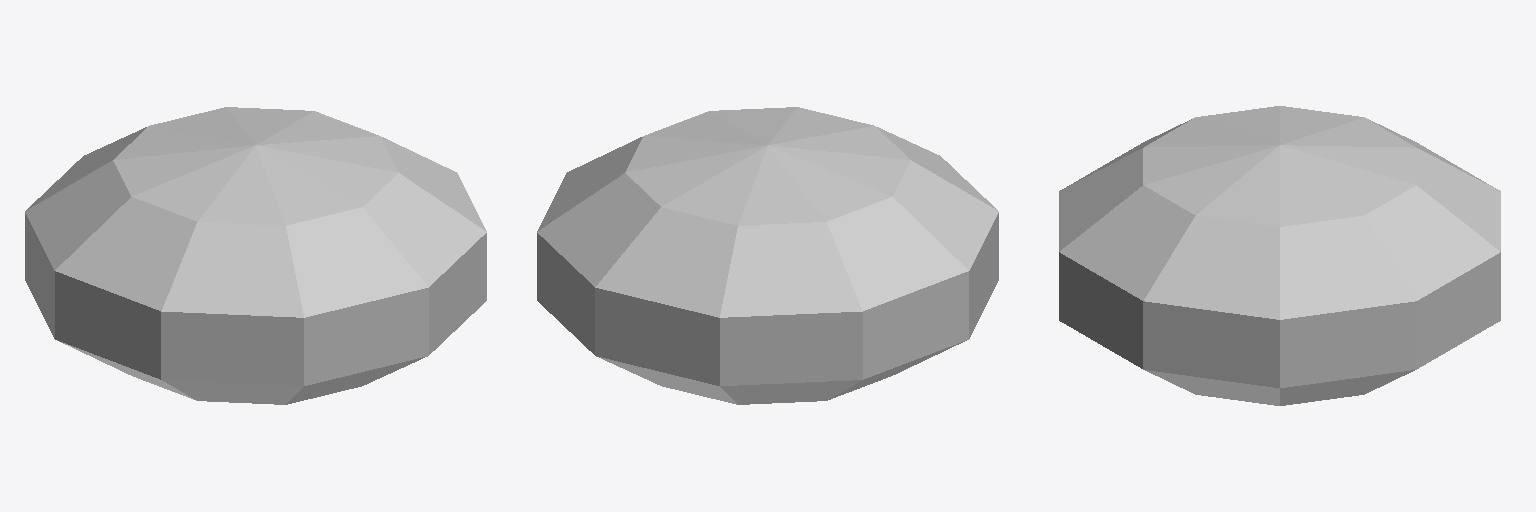
Rendered from GSAOE.obj.
3 renders of one model, left to right at view 1: azimuth 30°, elevation 25°; view 2: azimuth 150°, elevation 25°; view 3: azimuth 270°, elevation 25°, orthographic.
Parts seen in each view (by area): view 1: pSphere1; view 2: pSphere1; view 3: pSphere1.
Part boxes in pixels (left/top/right/bottom): pSphere1: left=25, top=107, right=486, bottom=404; pSphere1: left=537, top=107, right=998, bottom=404; pSphere1: left=1059, top=106, right=1500, bottom=405.
Size of the model in its own units: 1.9 by 1 by 1.81.